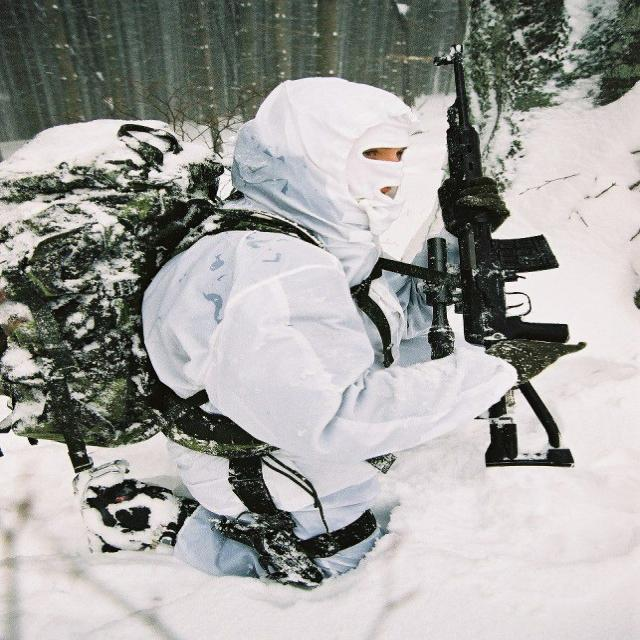Human: (2, 45, 587, 586)
